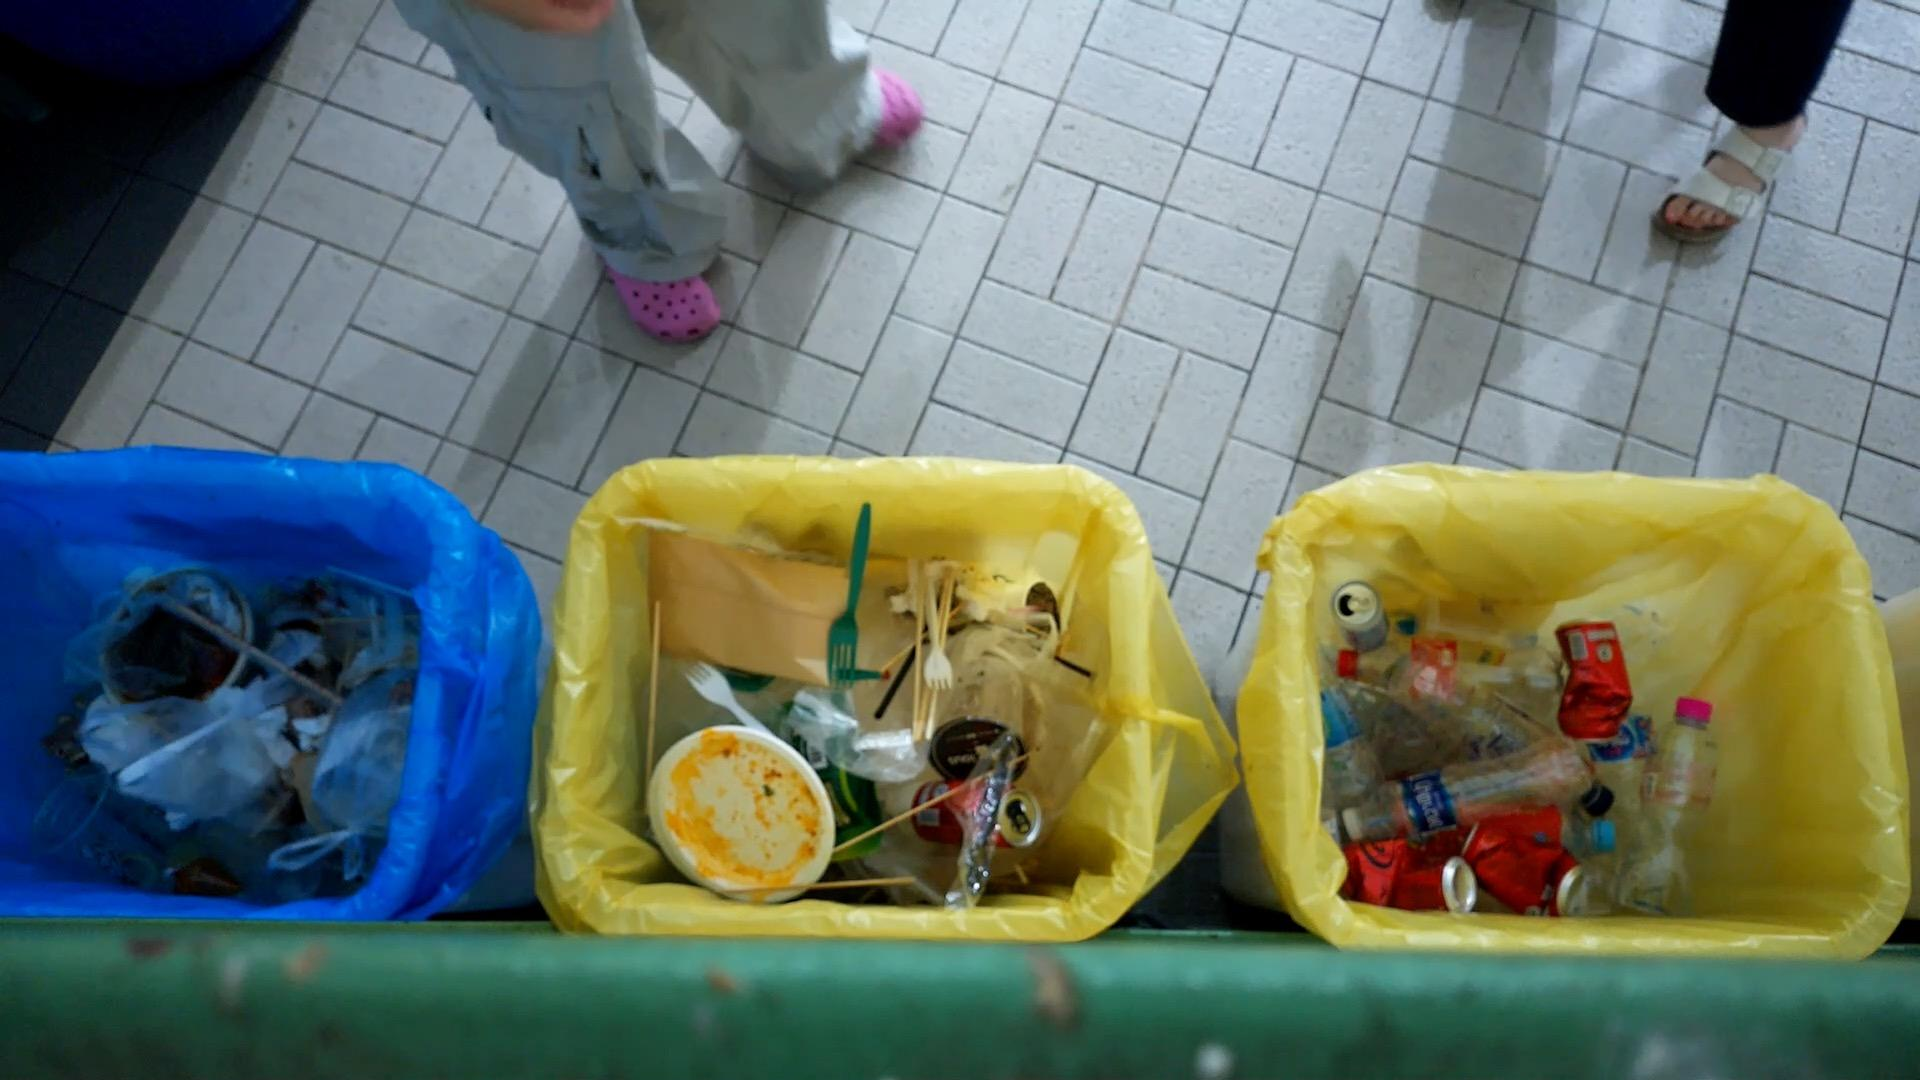can: (1526, 628, 1626, 761), (1342, 829, 1487, 915), (911, 781, 1046, 852), (1333, 582, 1394, 651)
filled plastic bag: (262, 669, 419, 881), (76, 686, 278, 832)
paper bag: (637, 530, 855, 663)
plastic bottle: (1611, 696, 1725, 920), (1342, 760, 1605, 851)
plastic cup: (919, 636, 1034, 790)
plastic cutlery: (117, 667, 306, 787), (827, 495, 877, 691), (674, 658, 769, 729), (712, 655, 884, 691), (1494, 882, 1611, 920), (918, 579, 948, 691)
sticks: (140, 587, 347, 712), (828, 742, 1051, 858), (633, 600, 671, 790), (918, 564, 956, 741), (901, 554, 936, 742), (719, 873, 913, 902)
straw: (582, 473, 781, 554)
